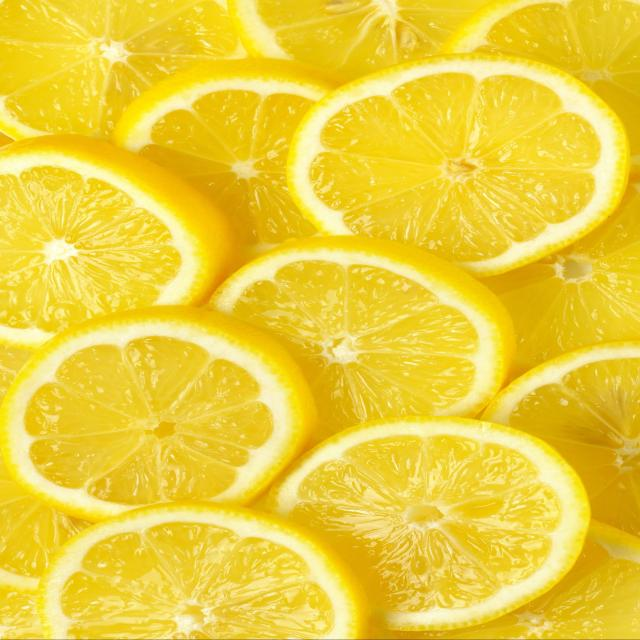lemon: (280, 51, 637, 283), (0, 299, 327, 533)
